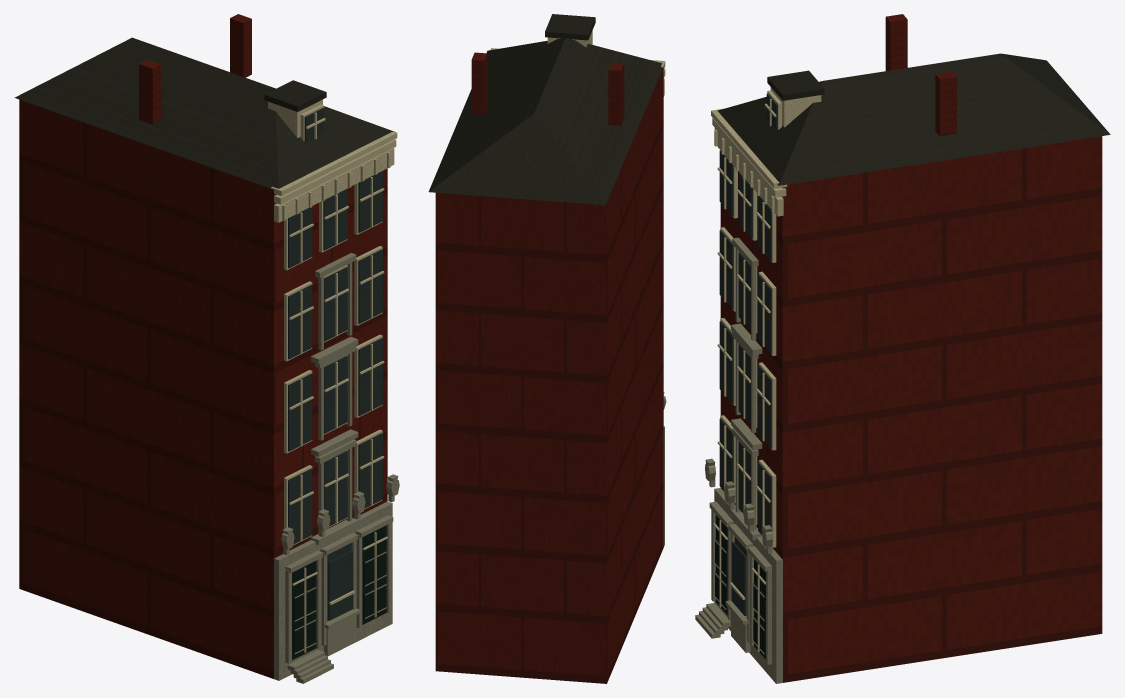
3 renders of one model, left to right at view 1: azimuth 30°, elevation 25°; view 2: azimuth 150°, elevation 25°; view 3: azimuth 270°, elevation 25°, orthographic. The views are drawn at different scales.
Visible parts, largest first — view 1: nieuwehaven169-0, nieuwehaven169-1, nieuwehaven169-4, nieuwehaven169-3, nieuwehaven169-2, nieuwehaven169-5; view 2: nieuwehaven169-0, nieuwehaven169-1; view 3: nieuwehaven169-0, nieuwehaven169-1, nieuwehaven169-3, nieuwehaven169-2, nieuwehaven169-4, nieuwehaven169-5.
Part boxes in pixels (x1=…): nieuwehaven169-0: x1=19, y1=14, x2=387, y2=678; nieuwehaven169-1: x1=14, y1=37, x2=395, y2=188; nieuwehaven169-4: x1=288, y1=108, x2=382, y2=620; nieuwehaven169-3: x1=274, y1=253, x2=399, y2=683; nieuwehaven169-2: x1=268, y1=99, x2=397, y2=652; nieuwehaven169-5: x1=292, y1=525, x2=386, y2=660; nieuwehaven169-0: x1=435, y1=52, x2=663, y2=683; nieuwehaven169-1: x1=428, y1=14, x2=662, y2=205; nieuwehaven169-0: x1=720, y1=14, x2=1102, y2=682; nieuwehaven169-1: x1=718, y1=53, x2=1110, y2=185; nieuwehaven169-3: x1=695, y1=237, x2=782, y2=683; nieuwehaven169-2: x1=711, y1=87, x2=821, y2=651; nieuwehaven169-4: x1=719, y1=93, x2=777, y2=615; nieuwehaven169-5: x1=715, y1=515, x2=765, y2=659.
Size of the model in its own units: 11.34 by 24.2 by 15.87.
6 materials, 6 textured.
